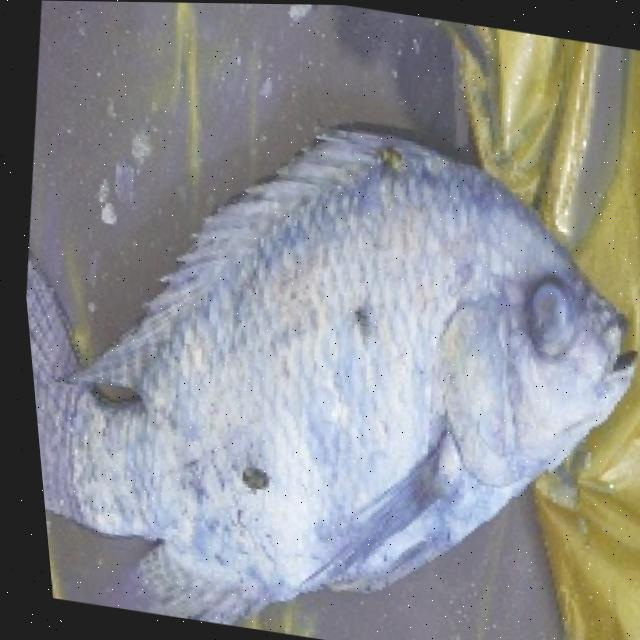Non-Fresh: (81, 204, 611, 510)
